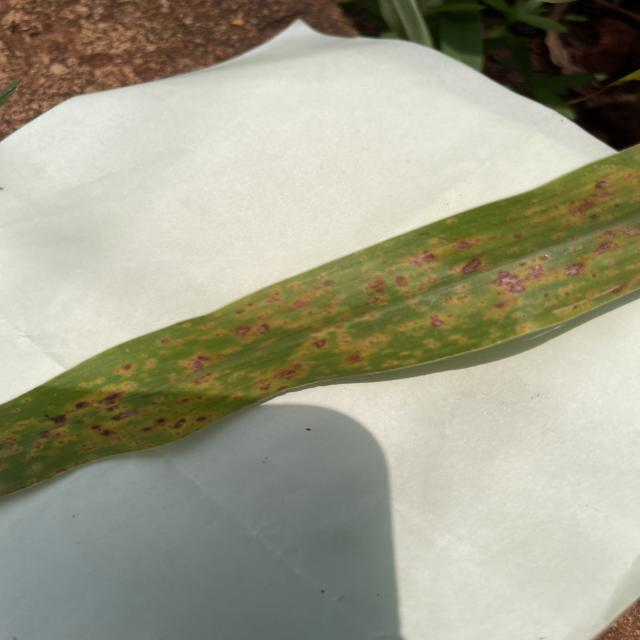millet_rust: (0, 147, 640, 495)
